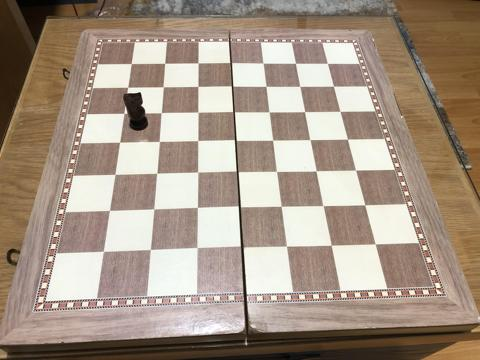xcorner: (326, 79, 339, 92), (224, 57, 237, 69), (125, 57, 138, 69), (293, 79, 305, 92), (298, 105, 311, 117), (227, 105, 240, 117), (304, 132, 316, 145), (229, 133, 241, 146), (152, 135, 165, 147), (271, 164, 283, 177), (108, 167, 120, 180), (358, 198, 371, 210), (275, 200, 288, 212), (146, 203, 159, 215), (325, 238, 337, 251), (320, 57, 332, 69), (289, 57, 301, 69), (257, 57, 269, 69), (192, 57, 204, 69), (159, 57, 171, 69), (260, 80, 272, 92), (226, 80, 238, 92), (192, 80, 204, 92), (157, 80, 169, 92), (122, 80, 134, 92), (333, 104, 345, 116), (263, 105, 275, 117), (191, 106, 203, 118), (155, 106, 167, 118), (118, 106, 130, 118), (341, 132, 353, 144), (267, 133, 279, 145), (191, 134, 203, 146), (113, 135, 125, 147), (349, 163, 361, 175), (310, 164, 322, 176), (231, 165, 243, 177), (191, 166, 203, 178), (150, 167, 162, 179), (317, 199, 329, 211), (233, 201, 245, 213), (190, 202, 202, 214), (102, 204, 114, 216), (369, 237, 381, 249), (281, 240, 293, 252), (236, 241, 248, 253), (190, 243, 202, 255), (143, 244, 155, 256), (96, 246, 108, 258)
